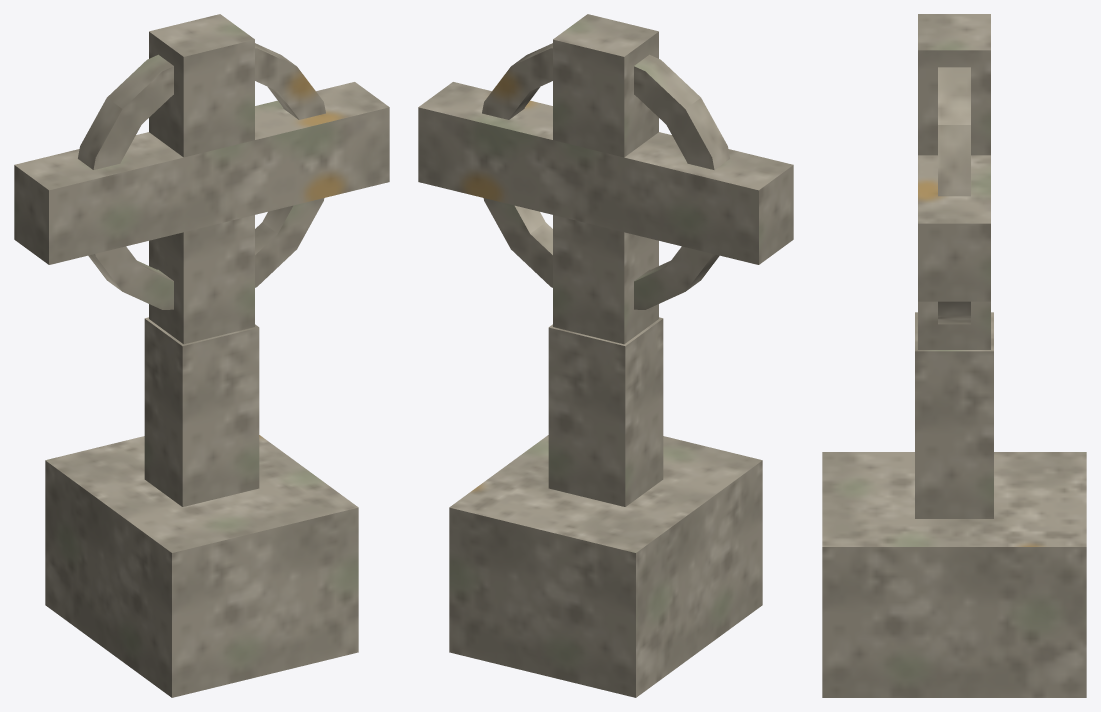
Rendered from SE_Cross_Gable.glb.
3 views of the same model, side by side, from view 1: azimuth 30°, elevation 25°; view 2: azimuth 150°, elevation 25°; view 3: azimuth 270°, elevation 25° (orthographic). The views are drawn at different scales.
Parts seen in each view (by area): view 1: SE_Cross_Gable; view 2: SE_Cross_Gable; view 3: SE_Cross_Gable.
Part boxes in pixels (<box>): SE_Cross_Gable: <box>14,14,389,697</box>; SE_Cross_Gable: <box>418,14,793,697</box>; SE_Cross_Gable: <box>822,14,1086,697</box>.
Bounding box in the file's own units: 0.62 × 1.03 × 0.4.
1 material, 1 textured.
